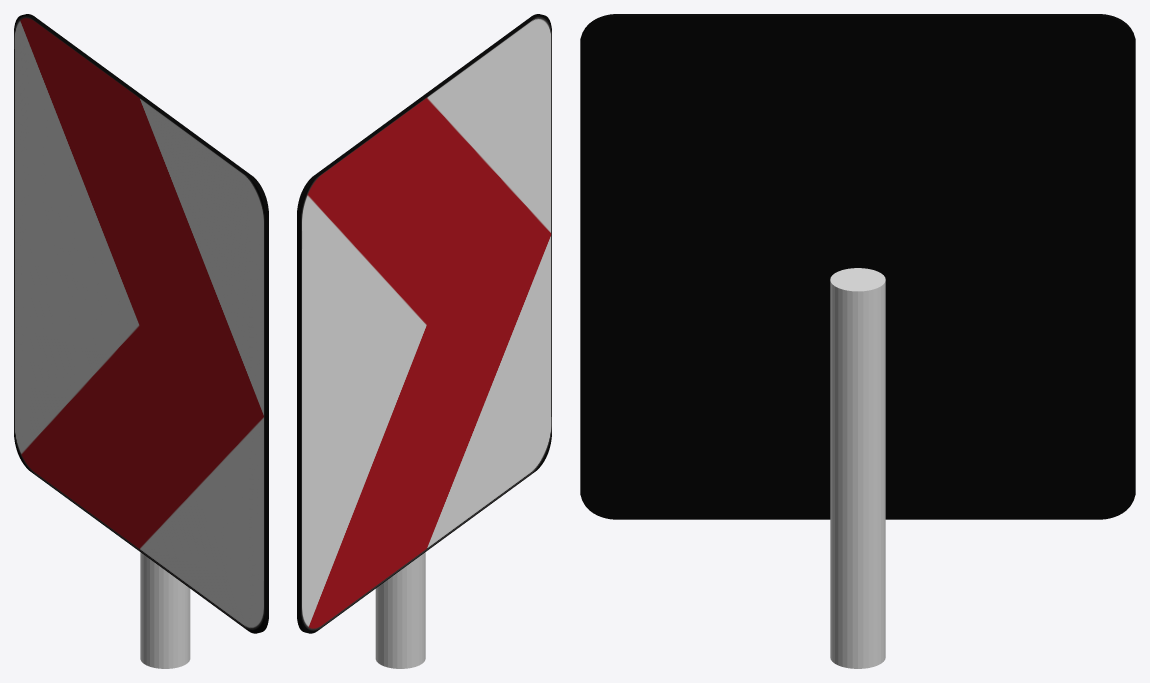
Rendered from sharp_turn_right_small_sign.dae.
3 renders of one model, left to right at view 1: azimuth 30°, elevation 25°; view 2: azimuth 150°, elevation 25°; view 3: azimuth 270°, elevation 25°, orthographic. The views are drawn at different scales.
Visible parts, largest first — view 1: path3678, Cylinder; view 2: path3678, Cylinder; view 3: path3678, Cylinder.
Boxes of the visible parts, x1,y1,x2,y2 form: path3678: [14, 14, 268, 633]; Cylinder: [140, 552, 190, 668]; path3678: [297, 14, 551, 633]; Cylinder: [375, 552, 425, 668]; path3678: [580, 14, 1135, 519]; Cylinder: [830, 268, 885, 668].
Bounding box in the file's own units: 0.011 × 0.1 × 0.125.
3 materials, 2 textured.
